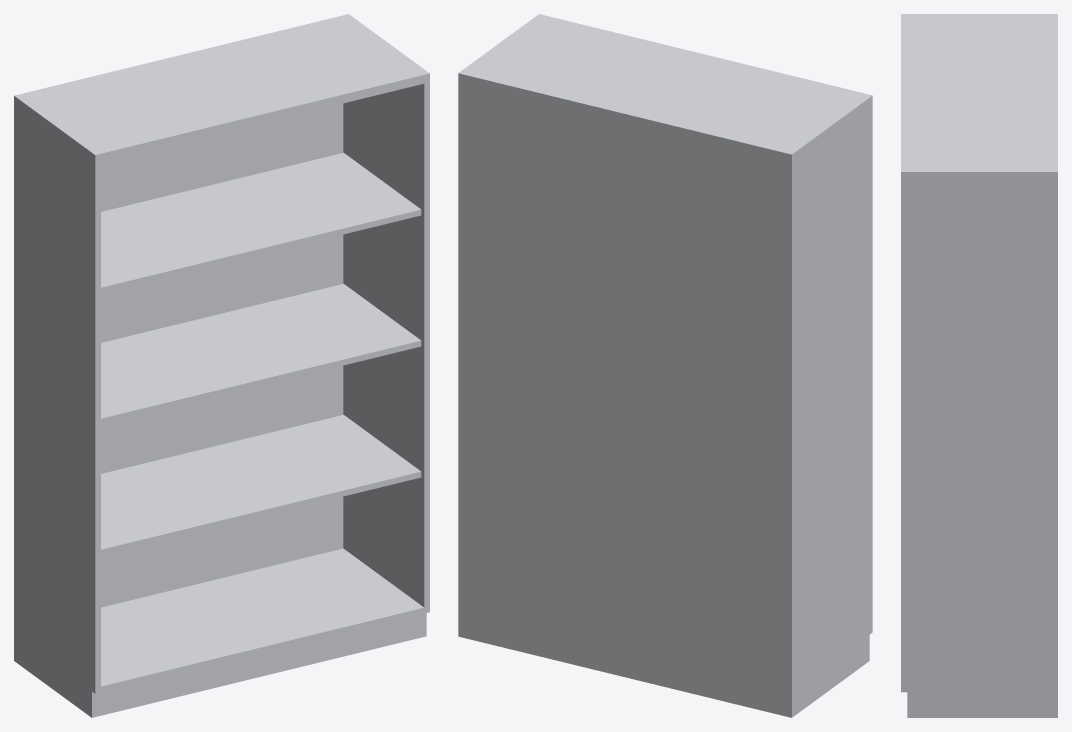
3 renders of one model, left to right at view 1: azimuth 30°, elevation 25°; view 2: azimuth 150°, elevation 25°; view 3: azimuth 270°, elevation 25°, orthographic. The views are drawn at different scales.
Parts seen in each view (by area): view 1: _301-638.dwg (×4); view 2: _301-638.dwg; view 3: _301-638.dwg.
Part boxes in pixels (left/top/right/bottom): _301-638.dwg (×4): left=14, top=14, right=429, bottom=717; _301-638.dwg: left=458, top=14, right=872, bottom=717; _301-638.dwg: left=901, top=14, right=1057, bottom=717.
Bounding box in the file's own units: 46.85 × 19.69 × 75.59.
